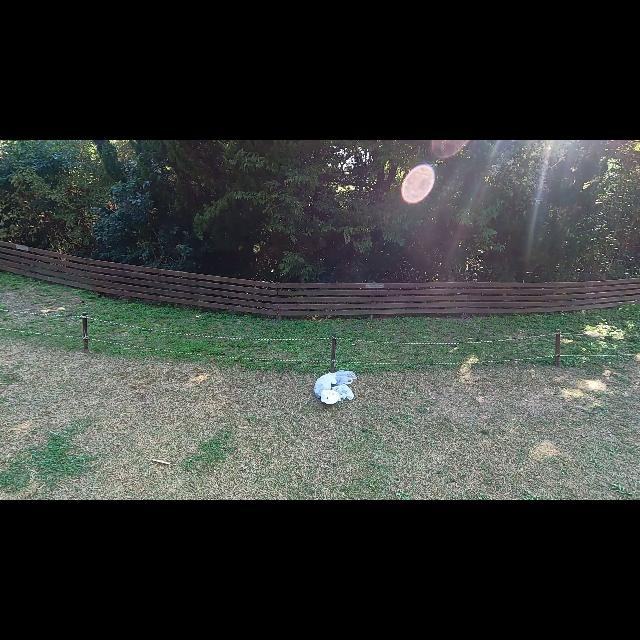trash: (329, 368, 361, 390), (312, 372, 338, 398), (330, 384, 354, 404), (318, 389, 342, 407)
